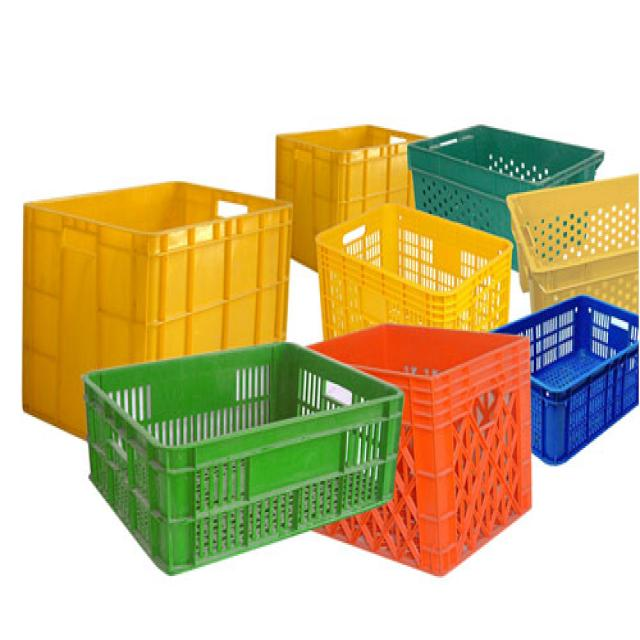basket: (58, 280, 435, 590), (14, 173, 293, 448), (314, 323, 534, 578), (394, 108, 605, 256), (316, 200, 517, 339), (274, 123, 428, 269), (508, 174, 640, 314)
